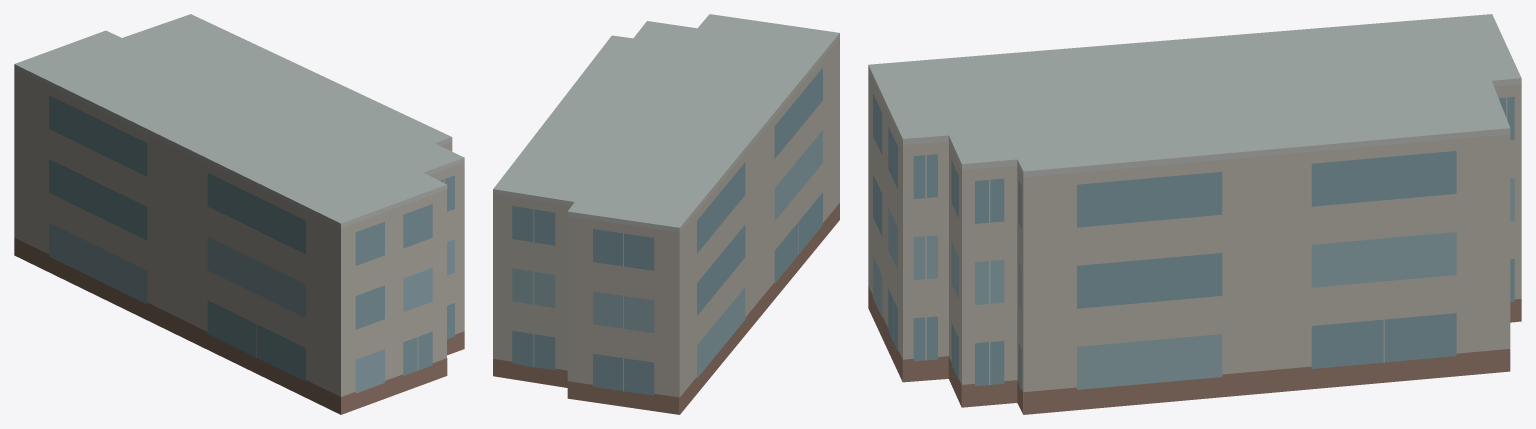
Rendered from survey-upis-32493539.glb.
3 renders of one model, left to right at view 1: azimuth 30°, elevation 25°; view 2: azimuth 150°, elevation 25°; view 3: azimuth 270°, elevation 25°, orthographic. The views are drawn at different scales.
Parts seen in each view (by area): view 1: survey-upis-32493539.tmp; view 2: survey-upis-32493539.tmp; view 3: survey-upis-32493539.tmp.
Boxes of the visible parts, box(x1,y1,x2,y2) form: survey-upis-32493539.tmp: box(14, 14, 464, 414); survey-upis-32493539.tmp: box(493, 14, 839, 414); survey-upis-32493539.tmp: box(868, 14, 1521, 414).
Bounding box in the file's own units: 14.03 × 10.1 × 24.58.
